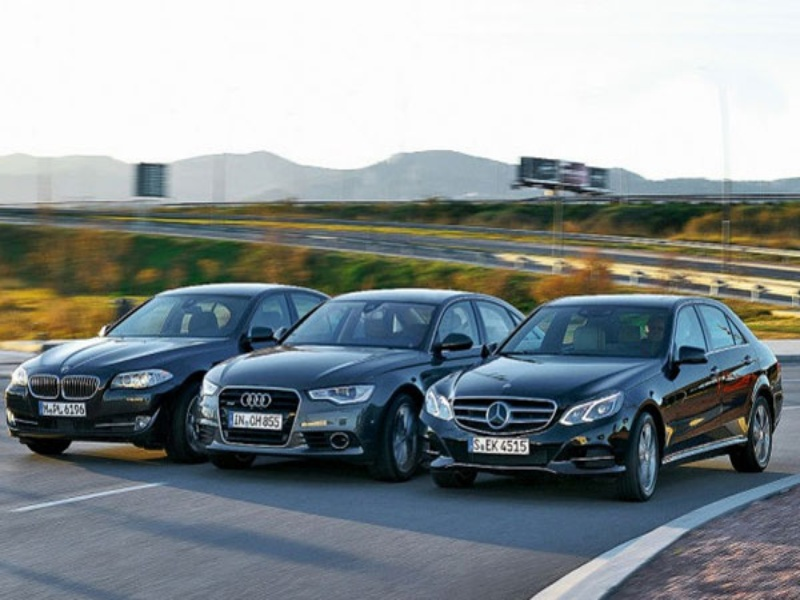car: (418, 294, 783, 499), (194, 287, 545, 479), (5, 284, 331, 457)
person: (646, 316, 667, 342)
plate: (468, 435, 529, 455), (227, 410, 282, 430), (38, 401, 85, 417)
